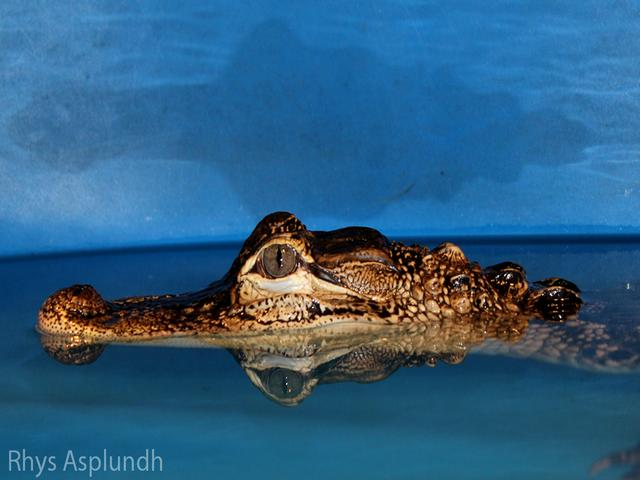crocodile: (16, 165, 605, 424)
